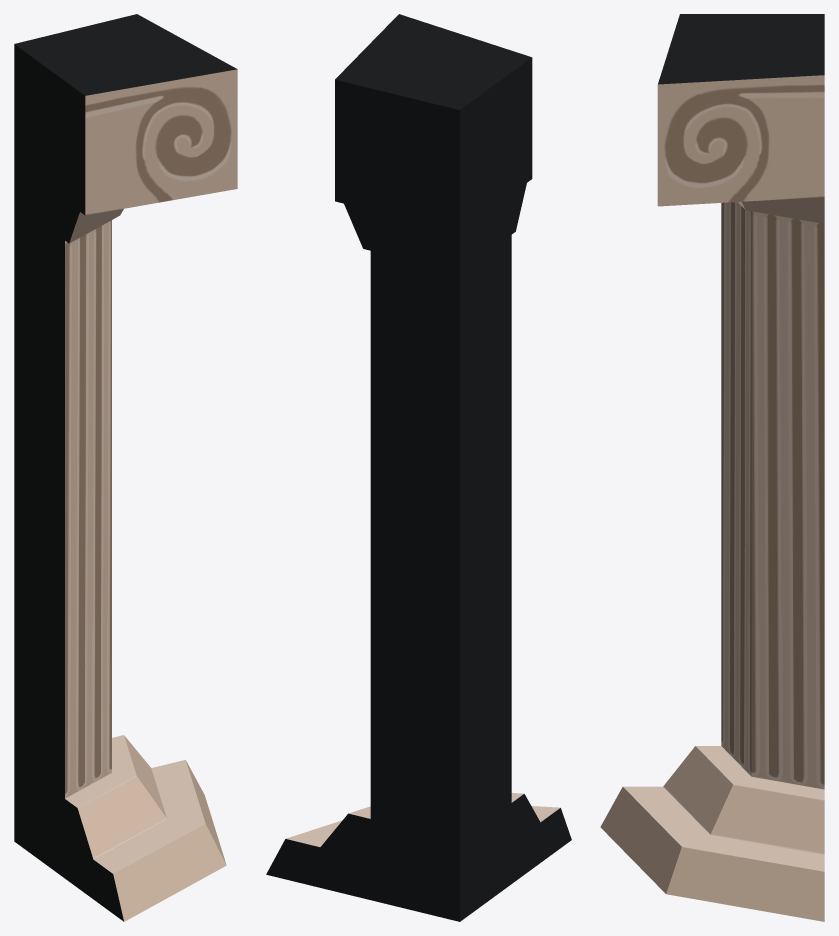
The model's file is Pillar-SE_v1.0.fbx.
The picture shows the model from 3 angles, left to right: view 1: azimuth 30°, elevation 25°; view 2: azimuth 150°, elevation 25°; view 3: azimuth 270°, elevation 25°; orthographic projection.
Visible parts, largest first — view 1: Cylinder.003; view 2: Cylinder.003; view 3: Cylinder.003.
Part boxes in pixels (<box>): Cylinder.003: <box>14,14,237,921</box>; Cylinder.003: <box>266,14,571,921</box>; Cylinder.003: <box>600,14,824,921</box>.
Bounding box in the file's own units: 50 × 50 × 200.
